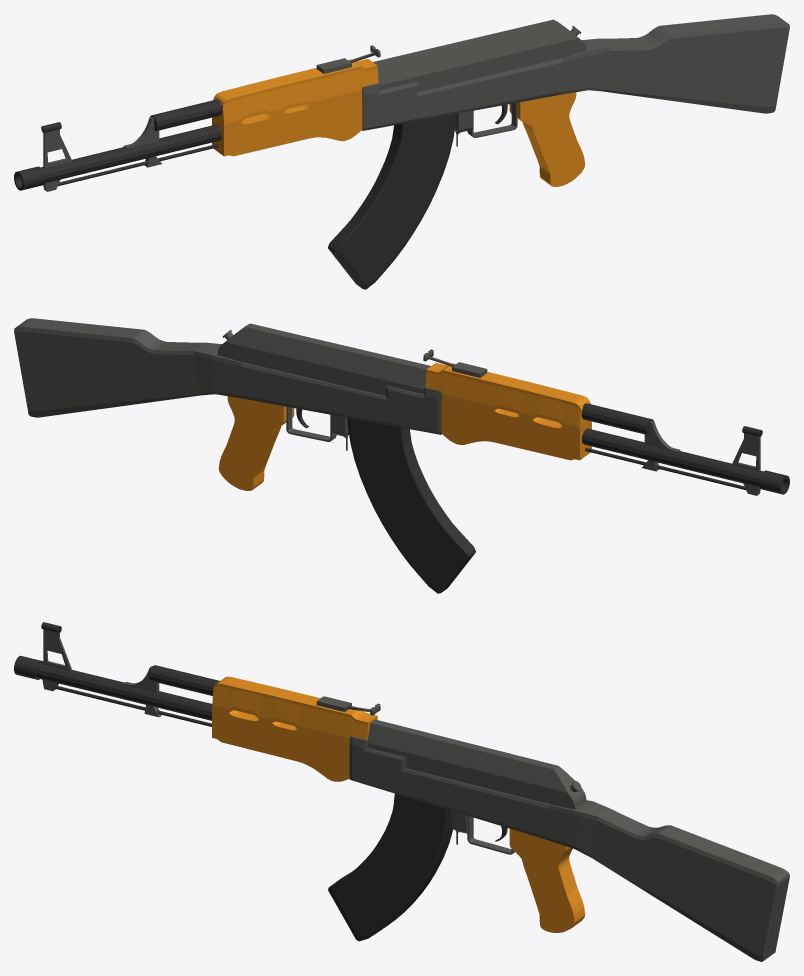
The picture shows the model from 3 angles, top to bottom: view 1: azimuth 30°, elevation 25°; view 2: azimuth 150°, elevation 25°; view 3: azimuth 330°, elevation 25°; orthographic projection.
Visible parts, largest first — view 1: AK47; view 2: AK47; view 3: AK47.
Boxes of the visible parts, left/top/right/bottom form: AK47: left=14, top=14, right=789, bottom=289; AK47: left=14, top=318, right=789, bottom=593; AK47: left=14, top=622, right=789, bottom=961.
Bounding box in the file's own units: 491 × 146 × 15.93.
